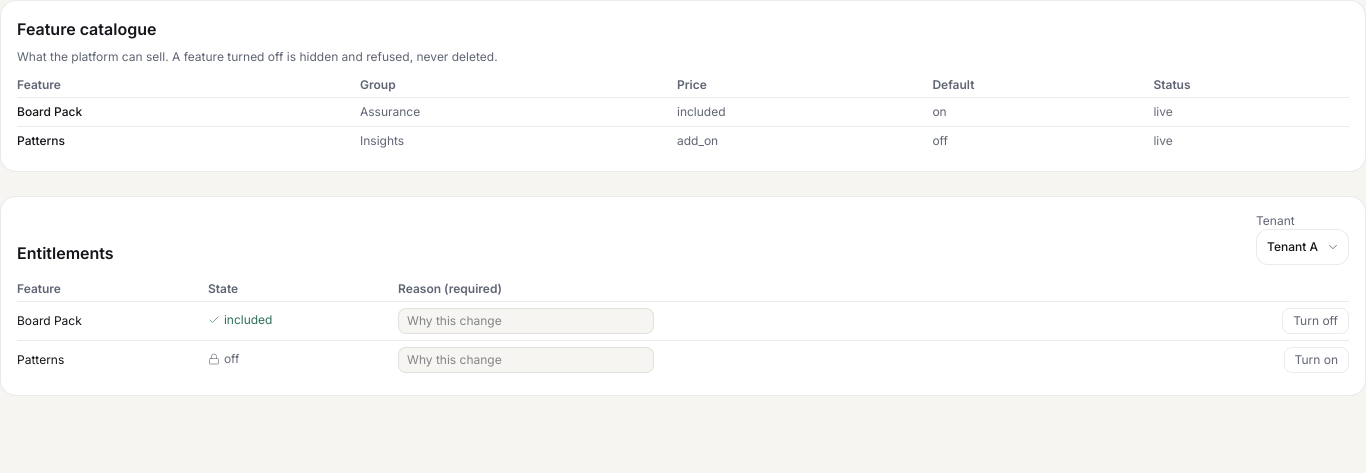
it: SA-14 features and plans (F25) › refuses a change without a reason
Click the button with test id "entitlement-toggle-patterns": click(1316, 360) [1284, 347, 1349, 373]
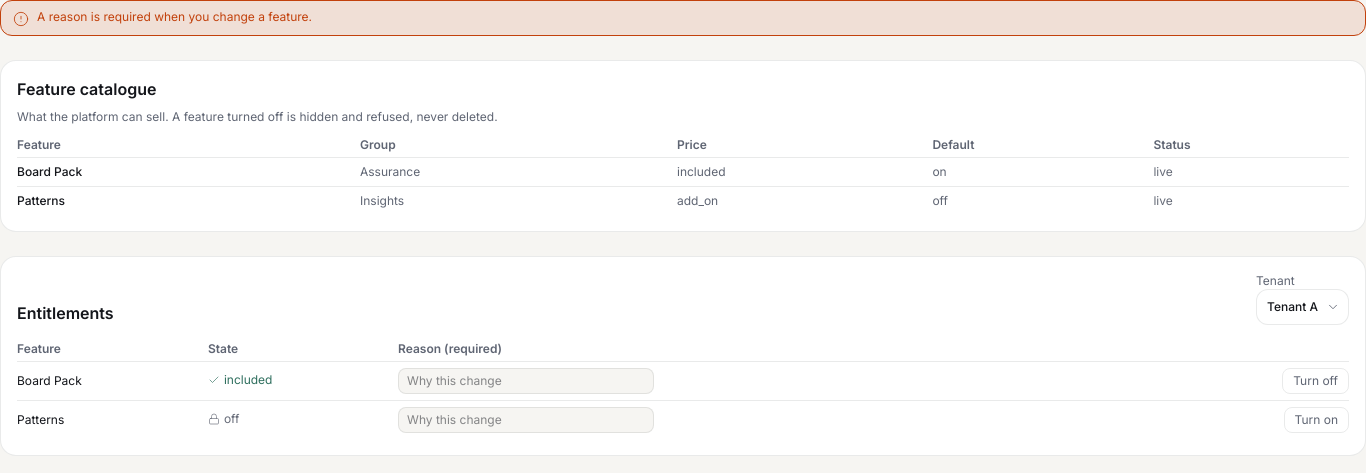
Now the message with test id "superadmin-features-result" shows "reason is required", box [37, 9, 312, 24]
